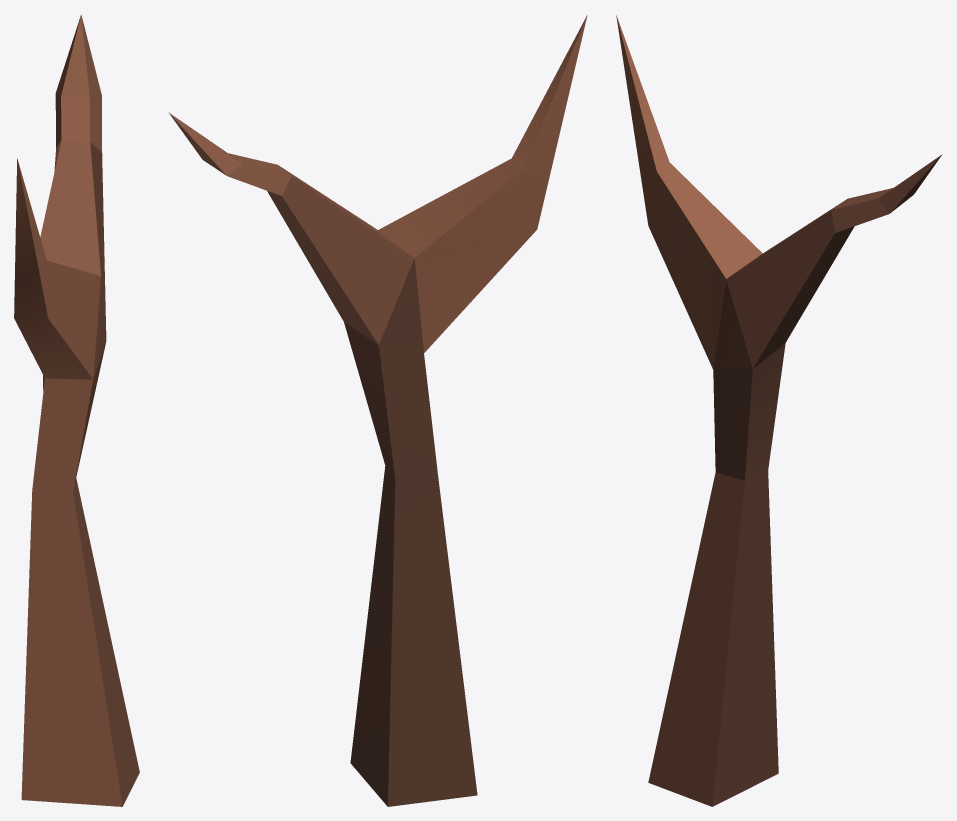
The model's file is Projectile_4_Boss_6_Tree.fbx.
3 views of the same model, side by side, from view 1: azimuth 30°, elevation 25°; view 2: azimuth 150°, elevation 25°; view 3: azimuth 270°, elevation 25° (orthographic). The views are drawn at different scales.
Parts seen in each view (by area): view 1: Projectile_4_Boss_6_Tree; view 2: Projectile_4_Boss_6_Tree; view 3: Projectile_4_Boss_6_Tree.
Part boxes in pixels (x1=…): Projectile_4_Boss_6_Tree: x1=14, y1=14, x2=139, y2=806; Projectile_4_Boss_6_Tree: x1=168, y1=15, x2=587, y2=806; Projectile_4_Boss_6_Tree: x1=616, y1=15, x2=942, y2=806.
Bounding box in the file's own units: 0.0122 × 0.036 × 0.0151.
